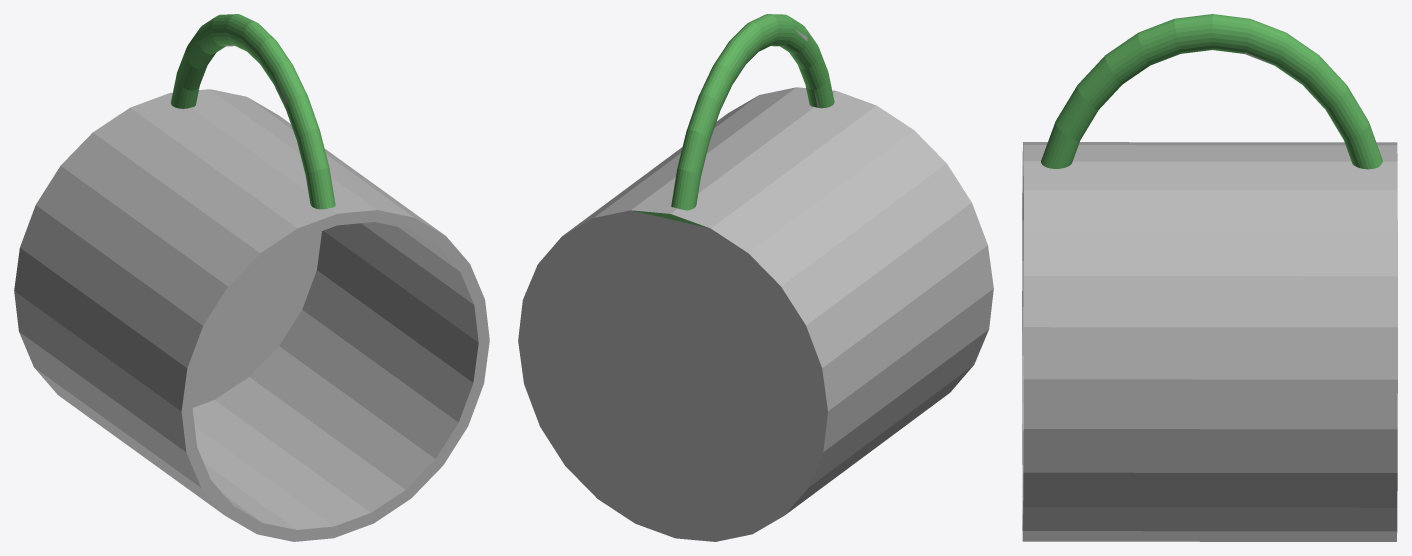
Rendered from colored_aligned.glb.
3 renders of one model, left to right at view 1: azimuth 30°, elevation 25°; view 2: azimuth 150°, elevation 25°; view 3: azimuth 270°, elevation 25°, orthographic. The views are drawn at different scales.
Parts seen in each view (by area): view 1: world; view 2: world; view 3: world.
Boxes of the visible parts, <box> form: world: <box>14,14,489,541</box>; world: <box>518,14,993,541</box>; world: <box>1022,14,1397,541</box>.
Bounding box in the file's own units: 0.3573 × 0.5004 × 0.3341.
